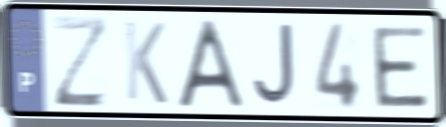4: (311, 19, 363, 113)
A: (173, 16, 248, 112)
E: (369, 24, 432, 111)
J: (249, 21, 296, 109)
K: (121, 17, 170, 108)
Z: (49, 13, 111, 109)
